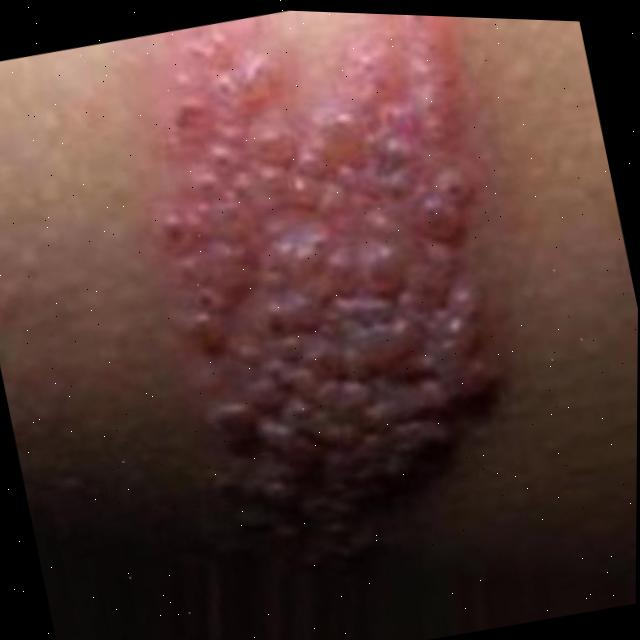Shingles: (119, 5, 543, 541)
